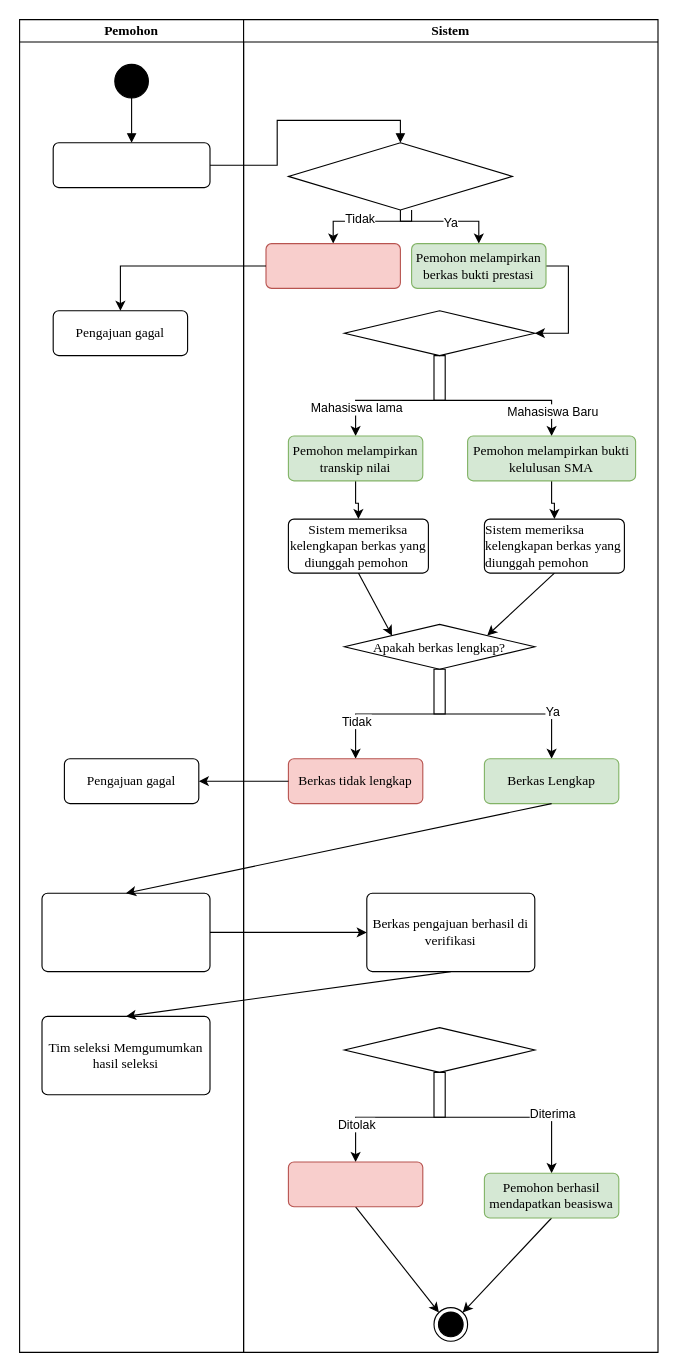
Image size: 678x1372. Some labels were removed from this diagram. The centre of each missing label's shape, as x and y in pixels:
Apakah Pemohon mahasiswa baru atau mahasiswa lama: point 439,333
Apakah Pemohon memiliki bukti prestasi: point 399,176
Memilih mengajukan beasiswa prestasi: point 131,165
Pemohon tidak berhasil mendapatkan beasiswa: point 355,1184
Pemohon tidak melampirkan berkas bukti prestasi: point 332,265
Pengumuman hasil seleksi: point 439,1049
Petugas Kemahasiswaan memverifikasi berkas pengajuan: point 125,932
